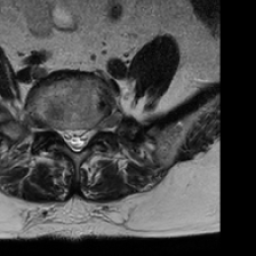CCS_normal: (72, 120, 79, 157)
LFS_normal: (90, 114, 100, 143)
LLS_normal: (81, 122, 90, 153)
RFS_severe_stenosis: (51, 118, 61, 144)
RLS_normal: (61, 123, 72, 152)
